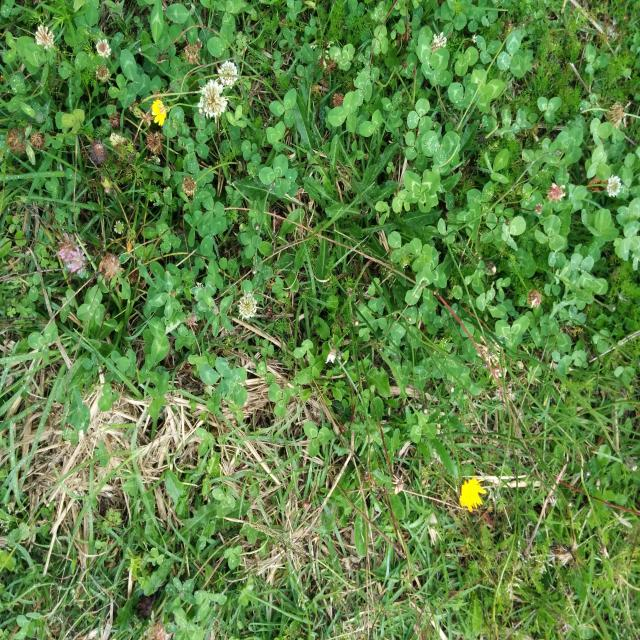Four Leaf Clover: (404, 170, 440, 213)
